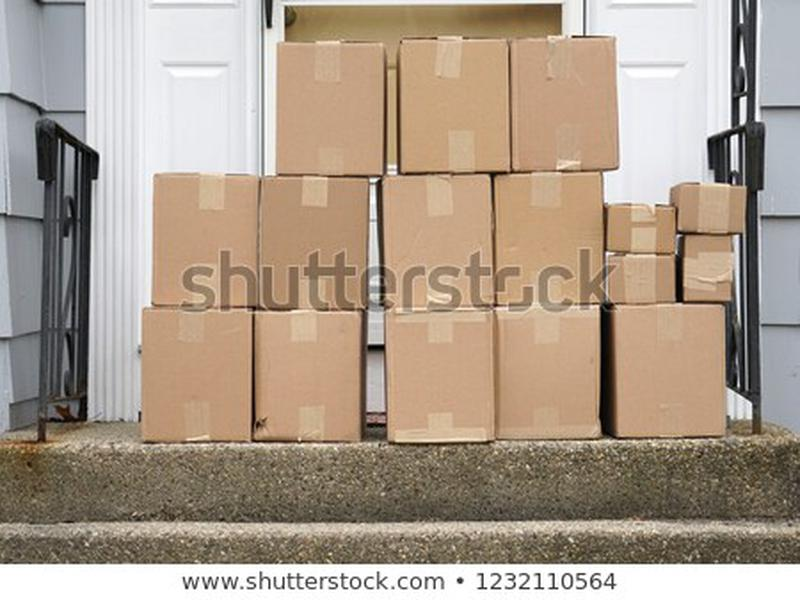package: (393, 31, 513, 179), (271, 36, 392, 179), (608, 302, 730, 442), (375, 172, 497, 311), (508, 33, 625, 177), (253, 307, 369, 447), (145, 168, 258, 311), (258, 174, 374, 313), (139, 307, 254, 445), (383, 311, 497, 448), (493, 174, 607, 308), (495, 303, 604, 443), (675, 230, 738, 306), (666, 179, 748, 235), (606, 251, 679, 307), (606, 201, 679, 254)
